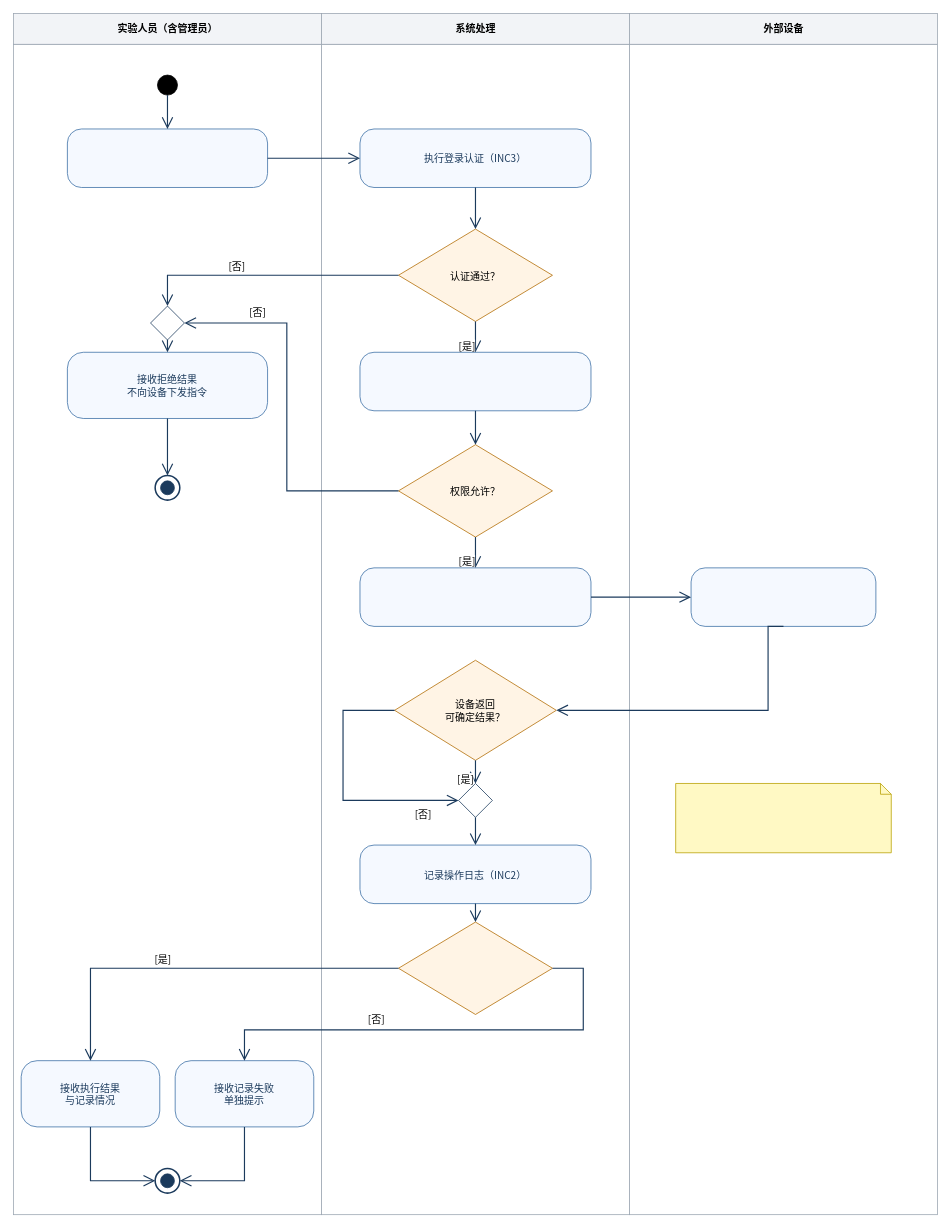
Image size: 951x1228. Some labels were removed from this diagram. The shapes that lost their labels are listed below. From the top down, each one's centre as x and y in pixels, then its label:
At point 167,157: "发起设备操作".
At point 475,381: "校验设备权限（INC1）".
At point 475,596: "经适配向设备下发操作指令".
At point 783,596: "执行设备指令".
At point 783,818: "设备不可达时记录能够确定的 失败或未知结果，不宣称成功。".
At point 475,967: "日志写入成功？".
